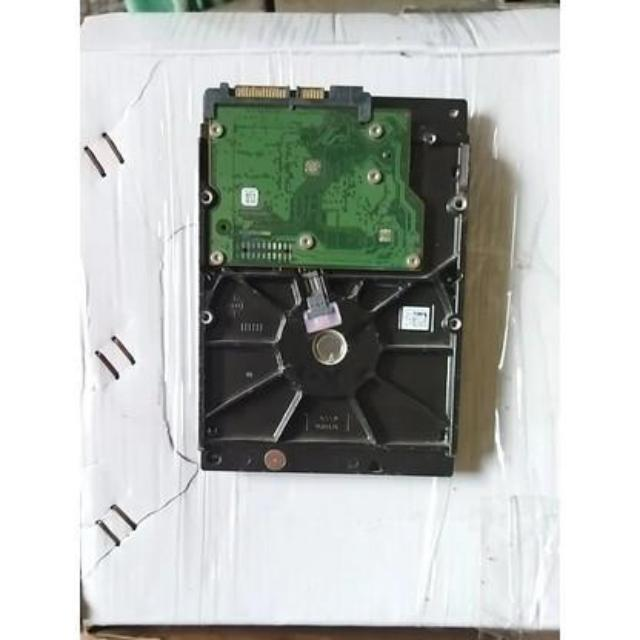DISK: (191, 76, 469, 493)
